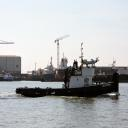tugboat: (16, 54, 123, 101)
